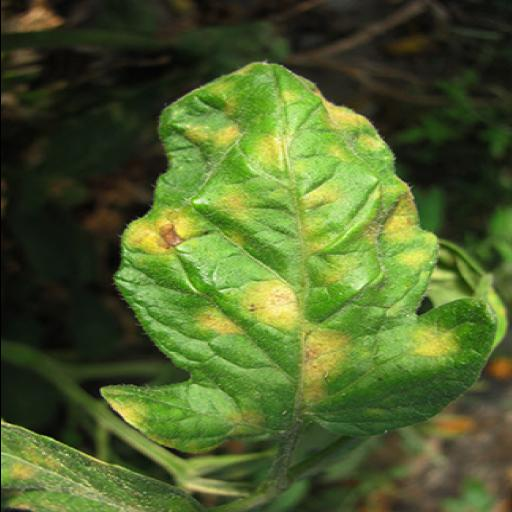disease_tomato: (98, 61, 500, 463)
